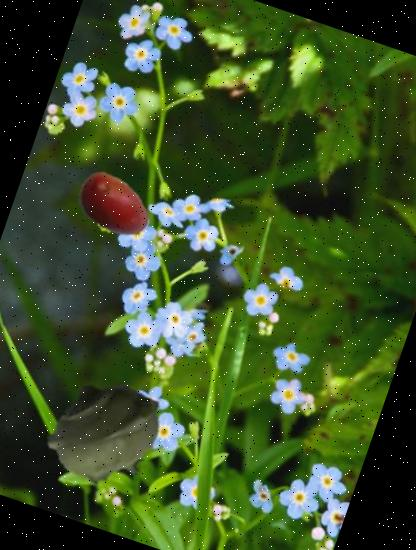Kohlrabi: (30, 354, 185, 509)
Potato: (66, 156, 164, 255)
